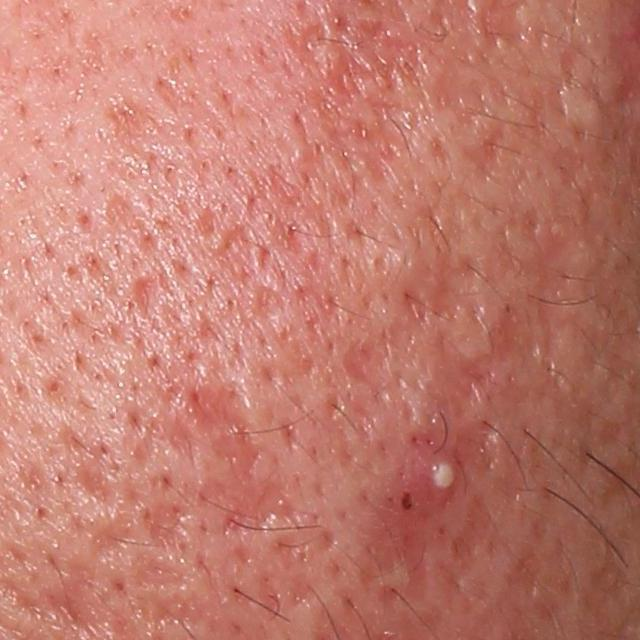atrophic_scar: (427, 306, 537, 426), (326, 17, 432, 108), (182, 377, 270, 485), (530, 227, 586, 357), (223, 482, 313, 540), (446, 492, 506, 574), (13, 585, 119, 631), (423, 249, 487, 322), (129, 594, 230, 635), (103, 89, 153, 153), (437, 65, 487, 128), (341, 334, 394, 393), (143, 500, 197, 553), (460, 126, 509, 182), (560, 41, 607, 98), (401, 531, 431, 606), (87, 517, 138, 555), (70, 460, 111, 507), (131, 555, 187, 586), (295, 20, 330, 67), (130, 273, 160, 323), (170, 415, 196, 469), (272, 532, 307, 572)
hypertrophic_scar: (551, 84, 607, 143)
pustule: (409, 441, 465, 513)
